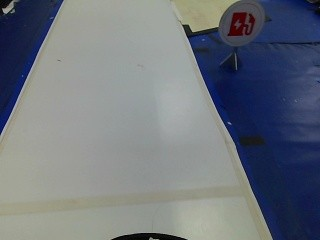battery: (218, 0, 265, 45)
